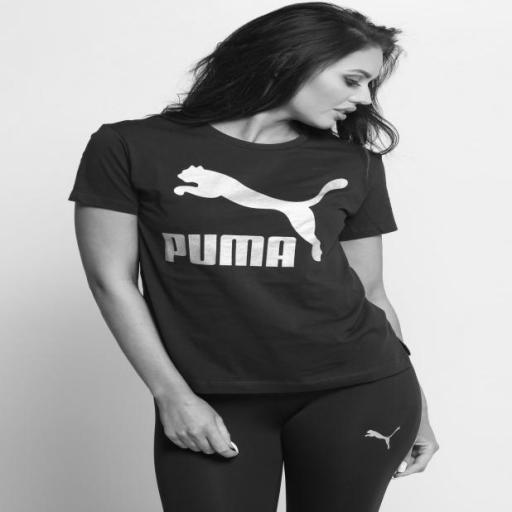Puma: (173, 160, 353, 268), (160, 229, 300, 270), (364, 420, 402, 451)
